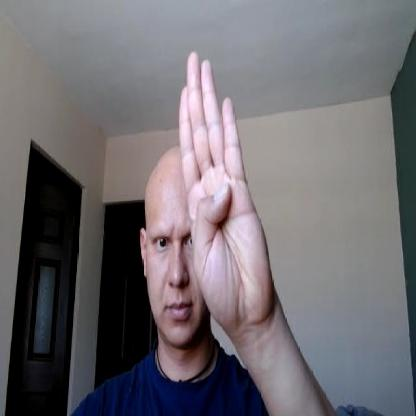B: (179, 52, 270, 330)
